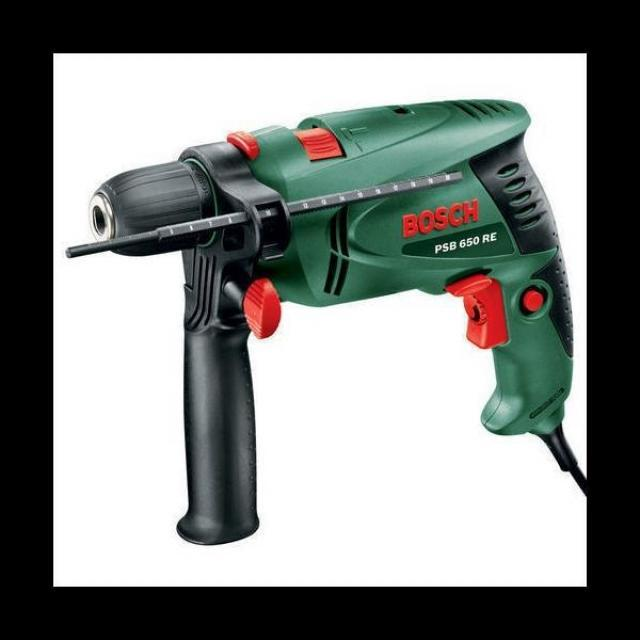drill: (66, 98, 578, 545)
